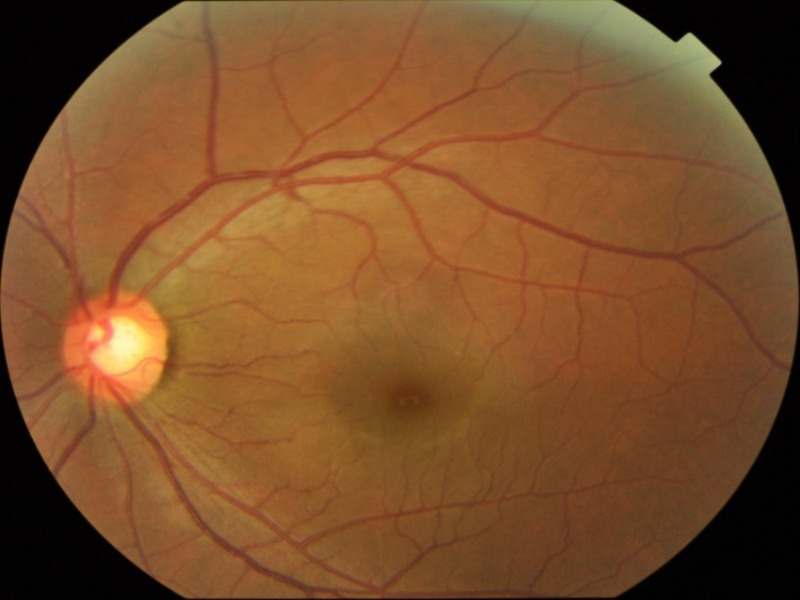Optic Cup: (83, 318, 143, 370)
Optic Disc: (60, 294, 168, 404)
